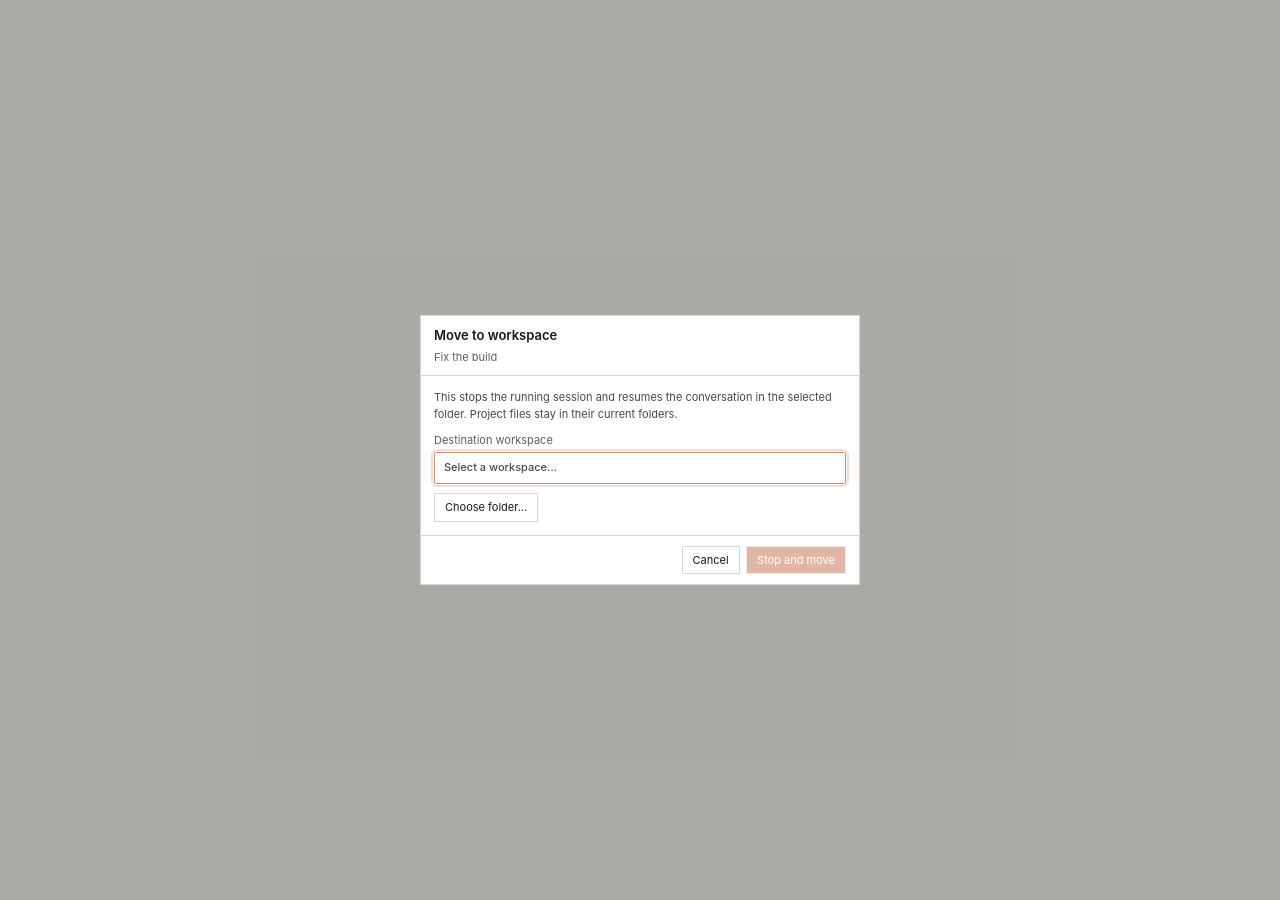
Test: Move Activity dialog › rejects the current folder and shows a folder-picker failure
This screenshot has width=1280, height=900.
Click the button "Choose folder…" at [486, 508], box [434,493,538,522]
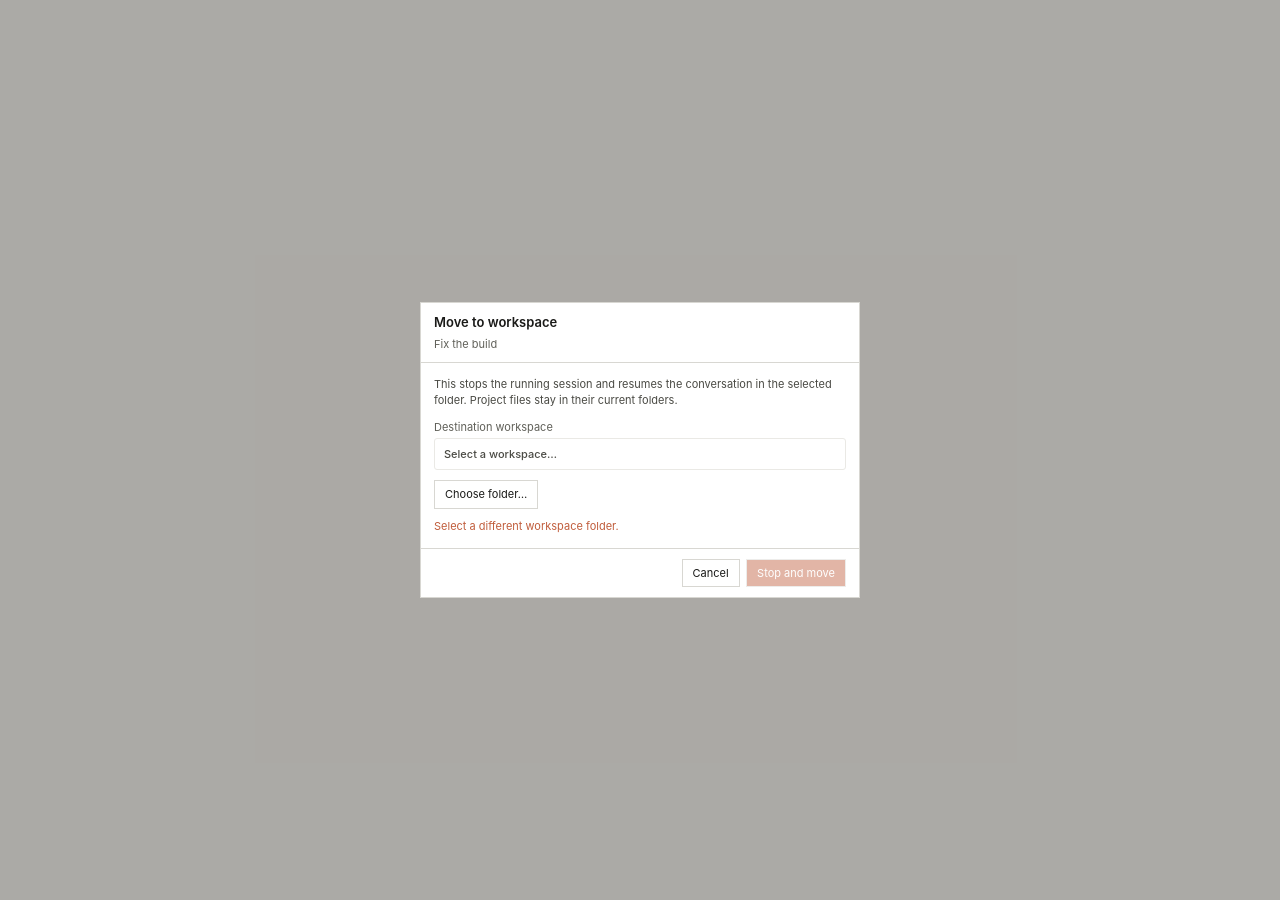
Expected: the button "Stop and move" is disabled, [746,559,846,587]
Result: the message "Select a different workspace folder." is shown at [434,519,619,533]
Click the button "Choose folder…" at [486, 494], box [434,480,538,509]
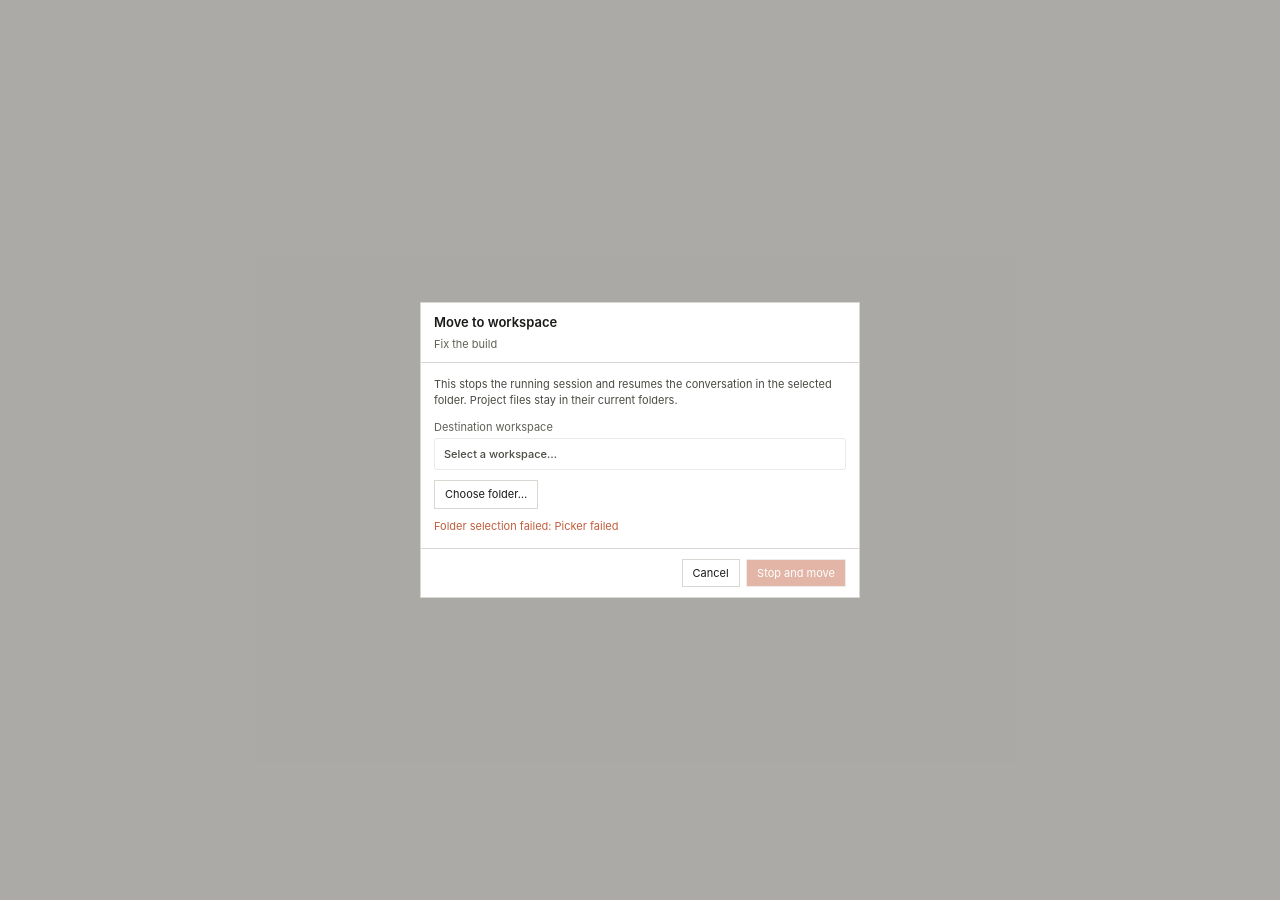
Result: the message "Folder selection failed: Picker failed" is shown at [434,519,618,533]
